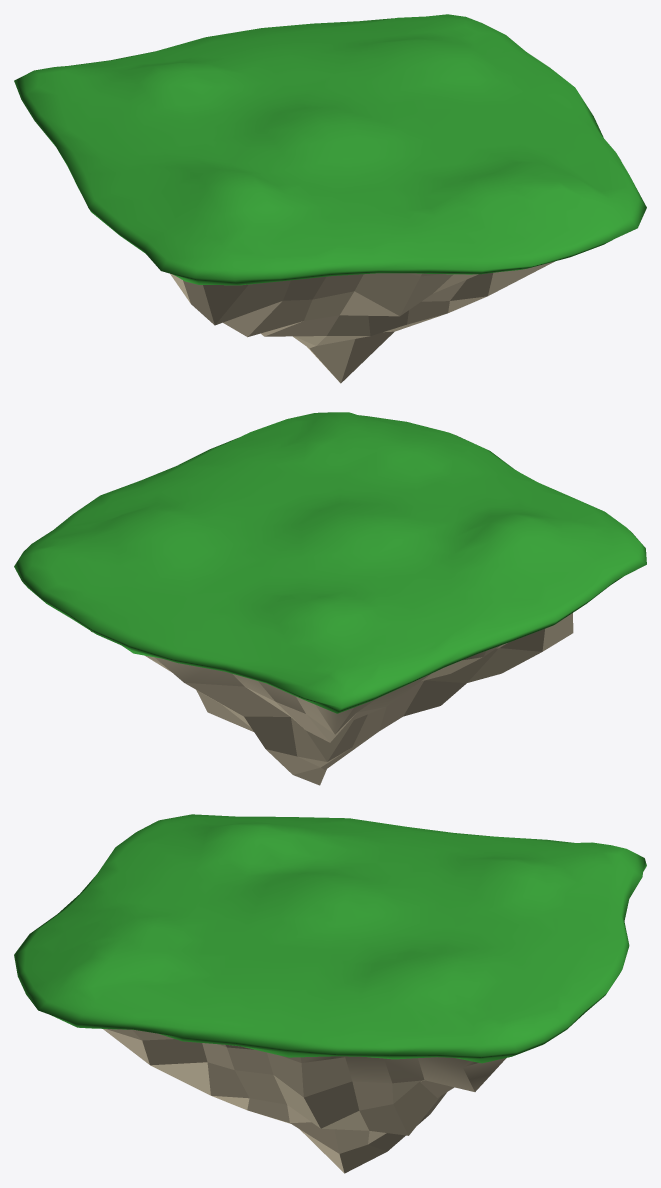
The model's file is SM_Island6.fbx.
3 renders of one model, top to bottom at view 1: azimuth 30°, elevation 25°; view 2: azimuth 150°, elevation 25°; view 3: azimuth 270°, elevation 25°, orthographic. The views are drawn at different scales.
Visible parts, largest first — view 1: SM_Island6; view 2: SM_Island6; view 3: SM_Island6.
Part boxes in pixels (x1,y1,x2,y2): SM_Island6: (14,14,646,383); SM_Island6: (14,412,646,785); SM_Island6: (14,814,646,1173).
Size of the model in its own units: 40.95 by 21.62 by 45.68.
